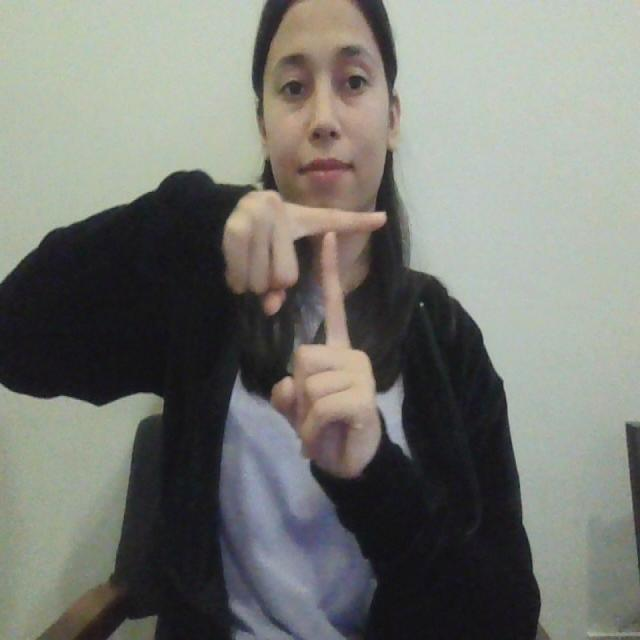Tesekkurler: (285, 188, 395, 380)
